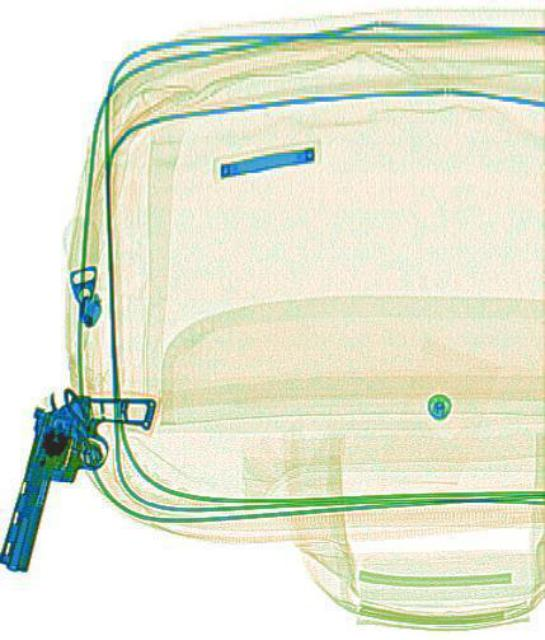Gun: (0, 367, 151, 584)
